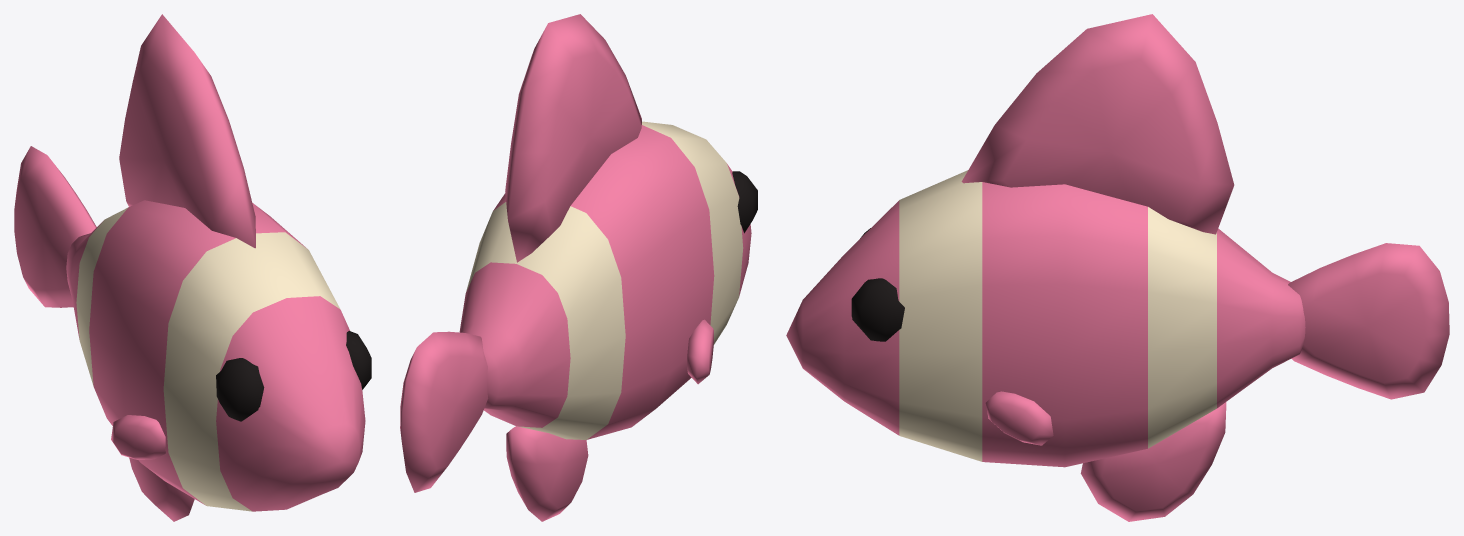
Rendered from fauna_fish_b.glb.
3 views of the same model, side by side, from view 1: azimuth 30°, elevation 25°; view 2: azimuth 150°, elevation 25°; view 3: azimuth 270°, elevation 25° (orthographic).
Visible parts, largest first — view 1: body, tail; view 2: body, tail; view 3: body, tail.
Boxes of the visible parts, x1,y1,x2,y2 form: body: [66, 14, 371, 521]; tail: [14, 146, 96, 307]; body: [459, 14, 757, 521]; tail: [400, 331, 488, 492]; body: [786, 14, 1305, 521]; tail: [1288, 243, 1449, 399].
Bounding box in the file's own units: 0.1777 × 0.4058 × 0.4804.
